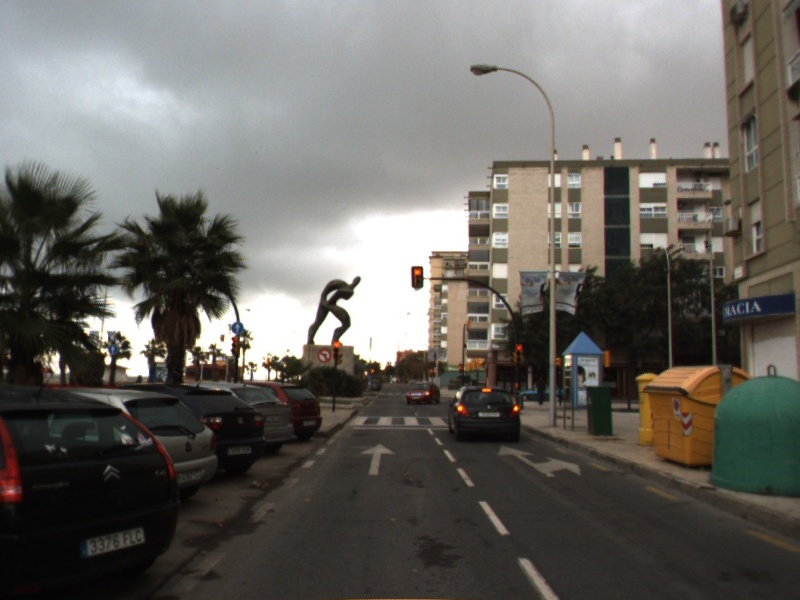STRAIGHT: (359, 441, 398, 476)
STRAIGHT_RIGHT: (497, 443, 582, 478)
